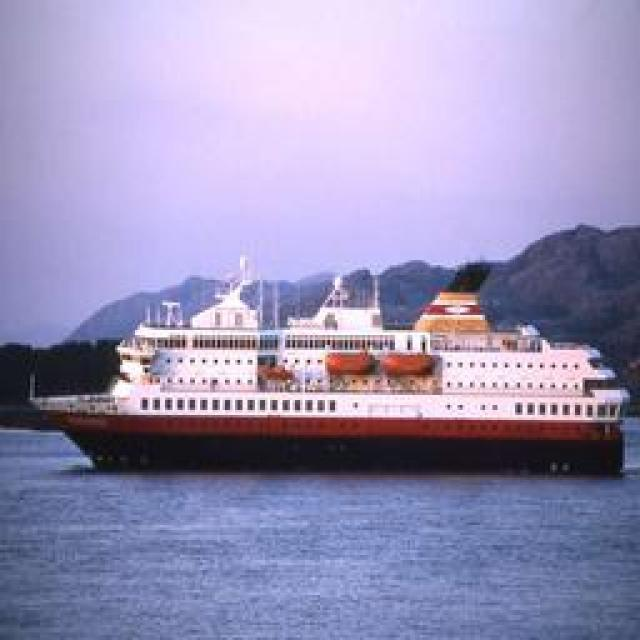ship2: (30, 254, 626, 477)
